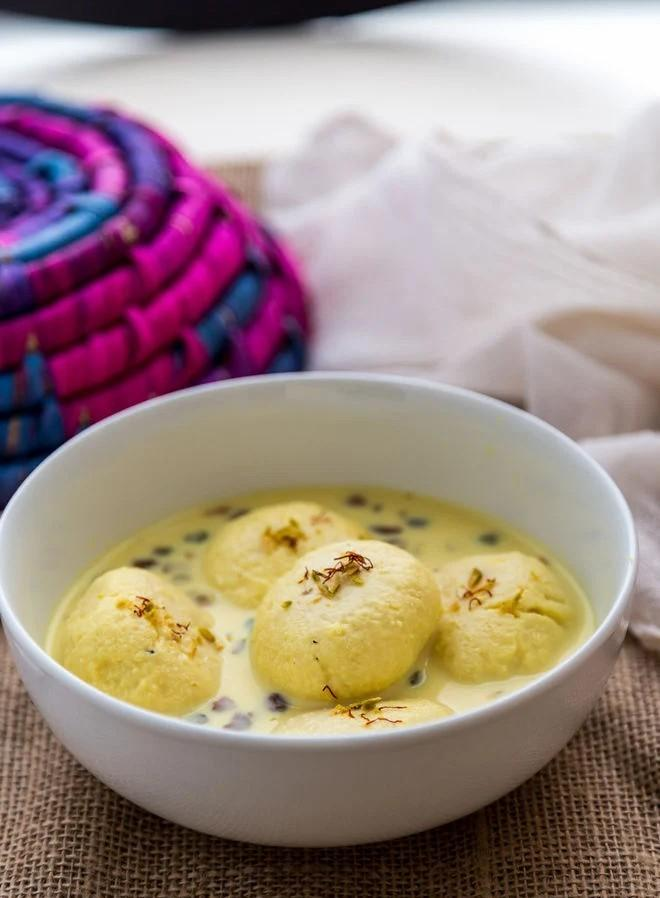RasMalai: (40, 475, 597, 738)
